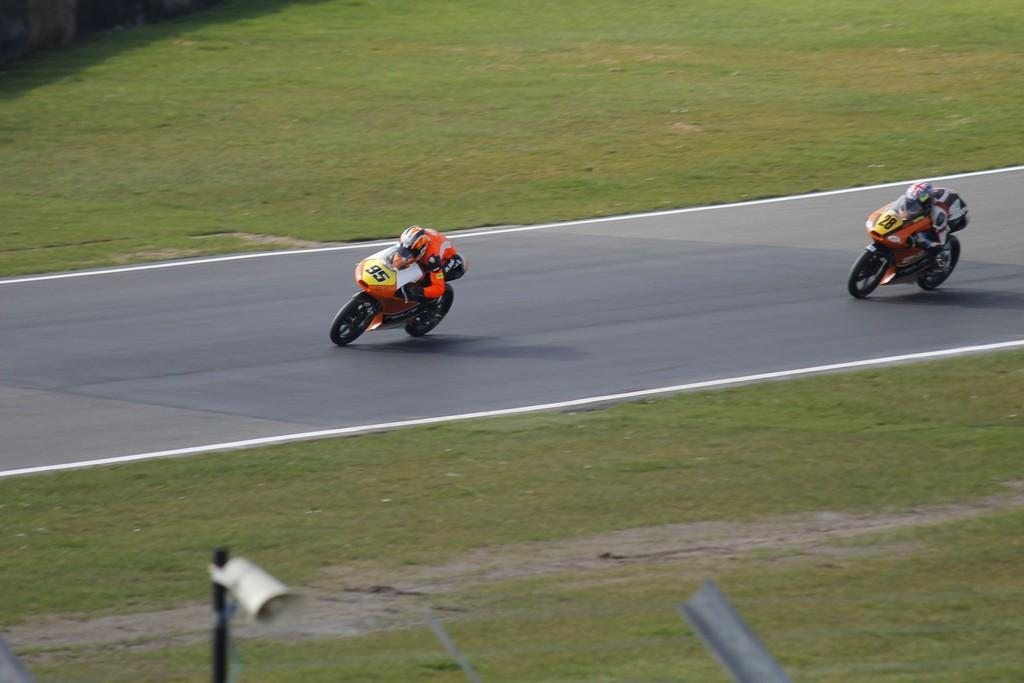helmet: (400, 224, 430, 263), (904, 181, 934, 214)
